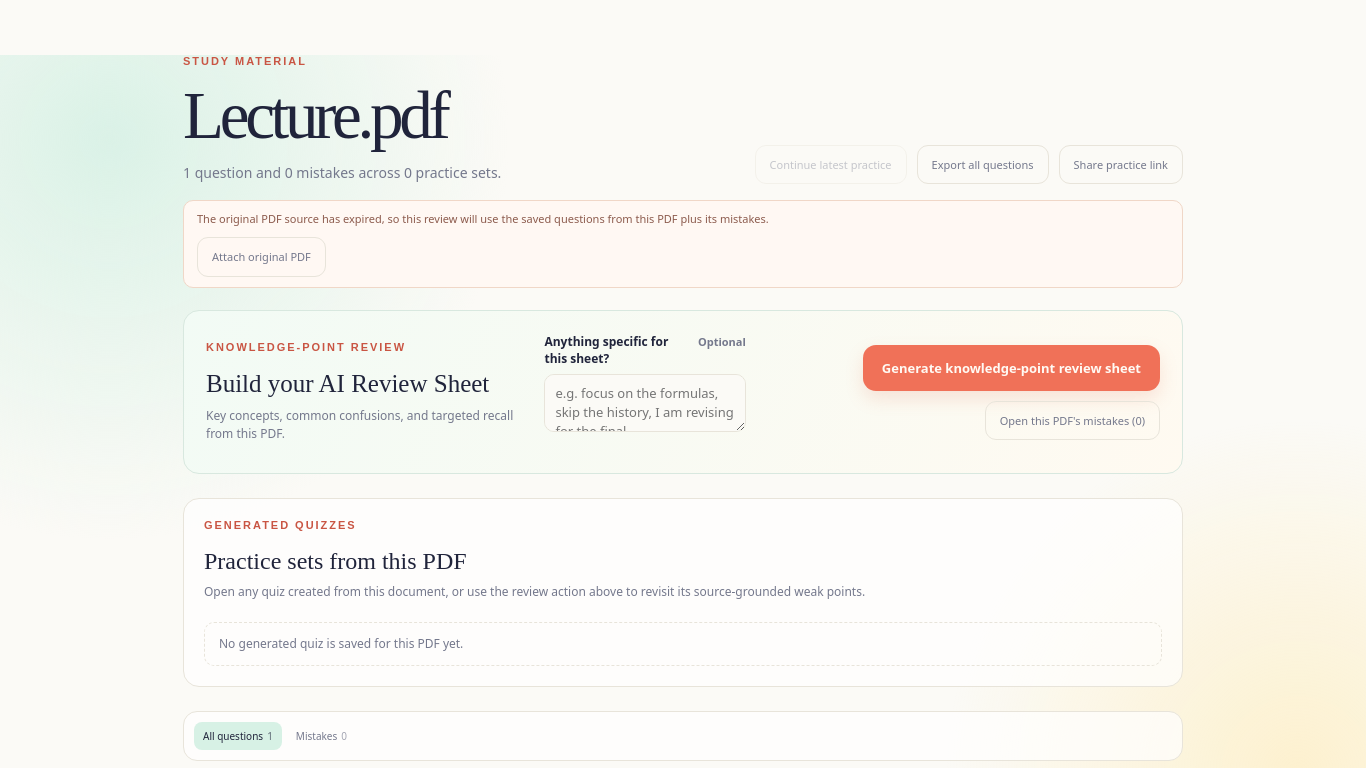
Test: MaterialDetailView › practice share link › keeps the answer key out of the shared questions
The width and height of the screenshot is (1366, 768).
Click the button with aria-label "Share a practice link for Lecture.pdf".
click(1121, 165)  # box [1059, 145, 1183, 184]
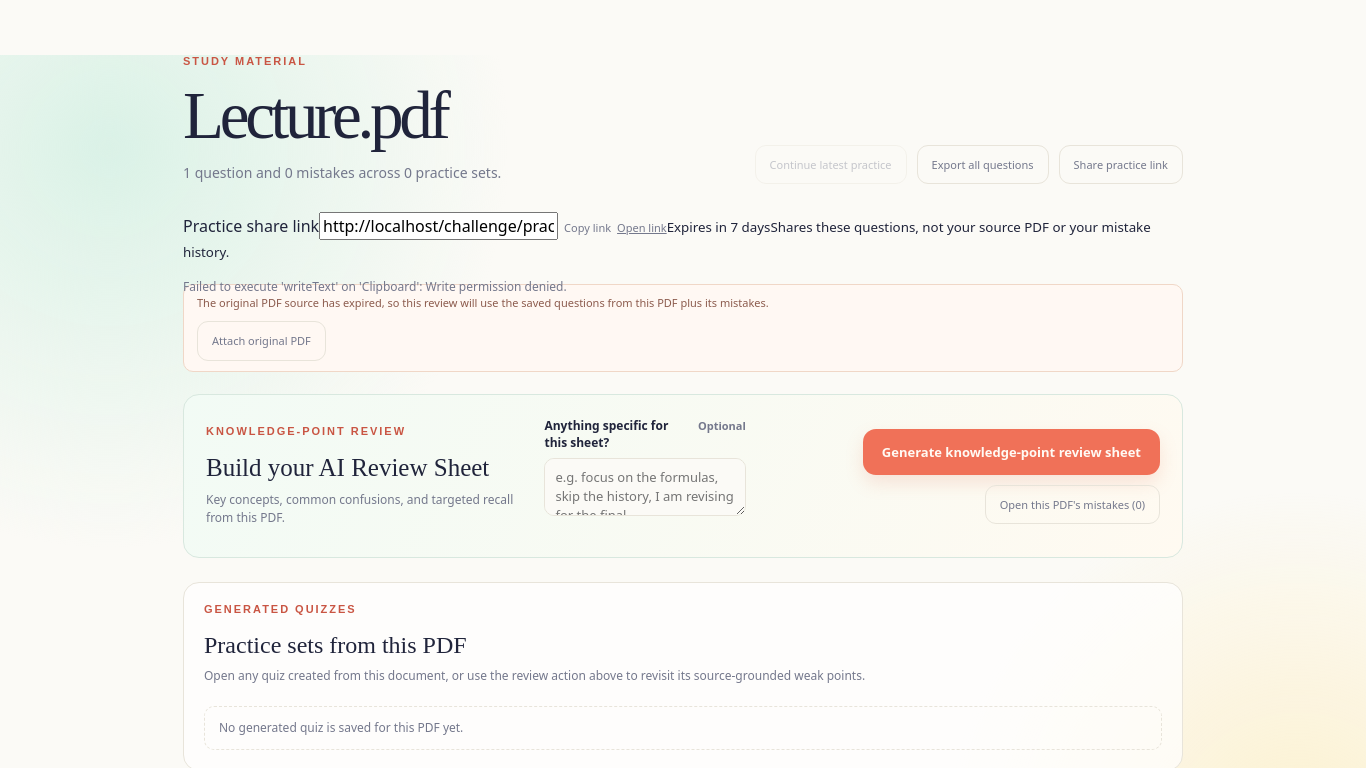
Expected: the field labelled "Practice share link" is shown, [319, 212, 558, 240]
